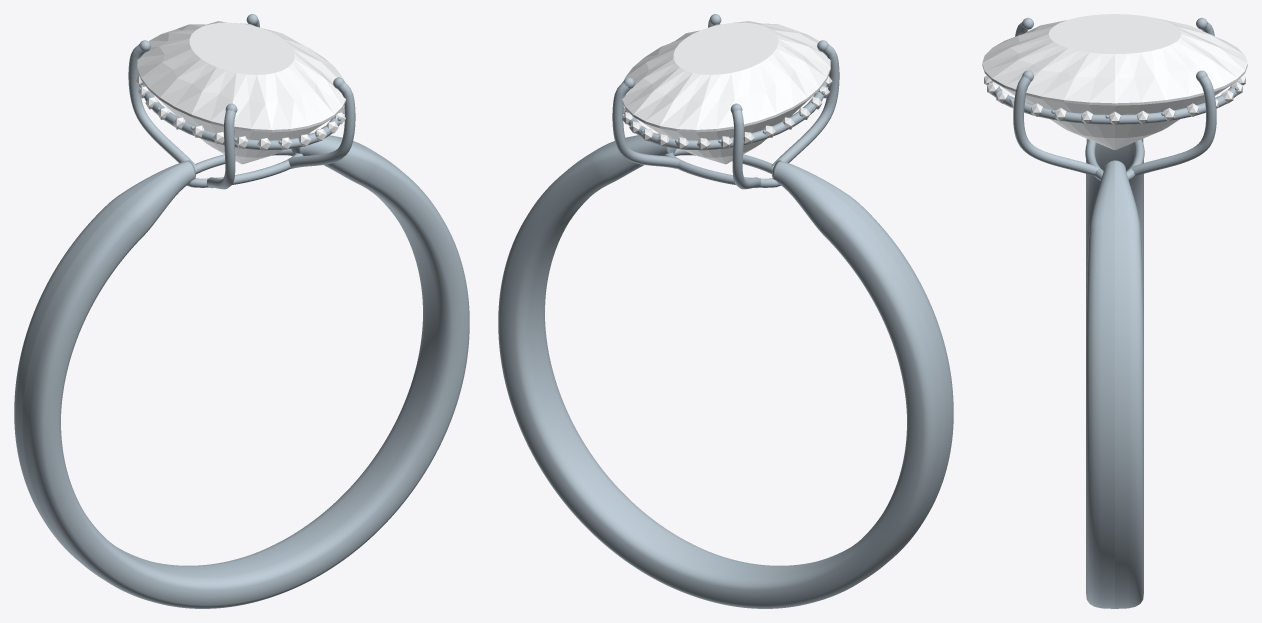
The model's file is lumen-visual-v2-oval.glb.
The picture shows the model from 3 angles, left to right: view 1: azimuth 30°, elevation 25°; view 2: azimuth 150°, elevation 25°; view 3: azimuth 270°, elevation 25°; orthographic projection.
Visible parts, largest first — view 1: Band, CenterStone, Prong-3, Prong-1, BasketBridge, HiddenHaloRail, Prong-2; view 2: Band, CenterStone, Prong-2, Prong-4, BasketBridge, HiddenHaloRail, Prong-3; view 3: Band, CenterStone, Prong-1, Prong-4, HiddenHaloRail, BasketBridge.
Part boxes in pixels (<box>): Band: <box>14,133,469,608</box>; CenterStone: <box>137,21,345,164</box>; Prong-3: <box>128,44,196,166</box>; Prong-1: <box>287,81,355,168</box>; BasketBridge: <box>187,148,303,187</box>; HiddenHaloRail: <box>141,82,343,150</box>; Prong-2: <box>206,109,235,189</box>; Band: <box>498,133,953,608</box>; CenterStone: <box>622,21,830,164</box>; Prong-2: <box>771,44,839,166</box>; Prong-4: <box>612,81,680,168</box>; BasketBridge: <box>664,148,780,187</box>; HiddenHaloRail: <box>625,82,827,150</box>; Prong-3: <box>732,109,761,189</box>; Band: <box>1086,139,1143,608</box>; CenterStone: <box>982,14,1247,149</box>; Prong-1: <box>1013,75,1100,176</box>; Prong-4: <box>1129,75,1216,176</box>; HiddenHaloRail: <box>990,81,1240,124</box>; BasketBridge: <box>1085,139,1144,180</box>.
Bounding box in the file's own units: 19.55 × 23.36 × 10.2.
